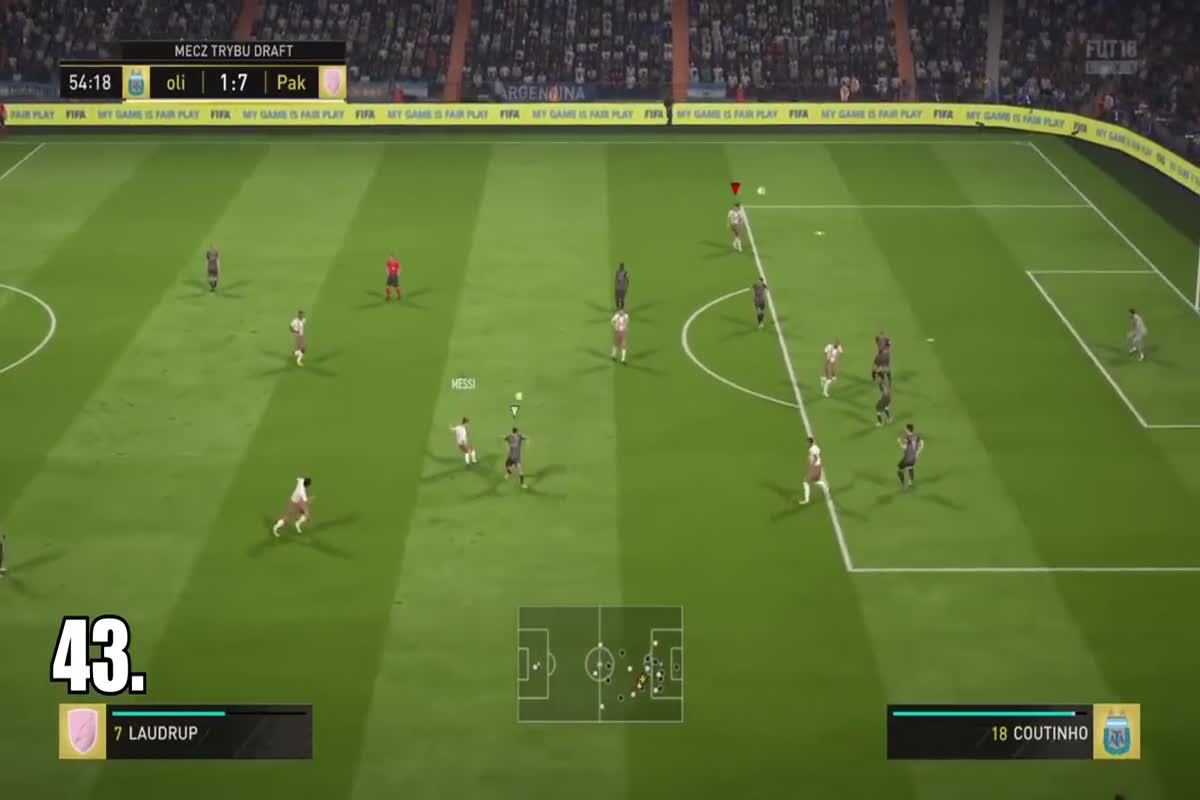ball: (505, 386, 533, 404)
